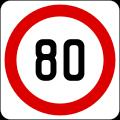Speed Limit -80-: (30, 31, 86, 83)
